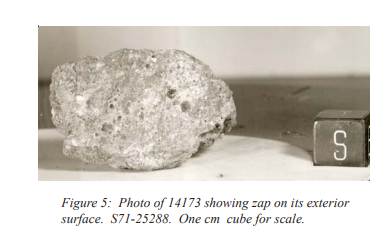Breccia: (48, 43, 262, 158)
